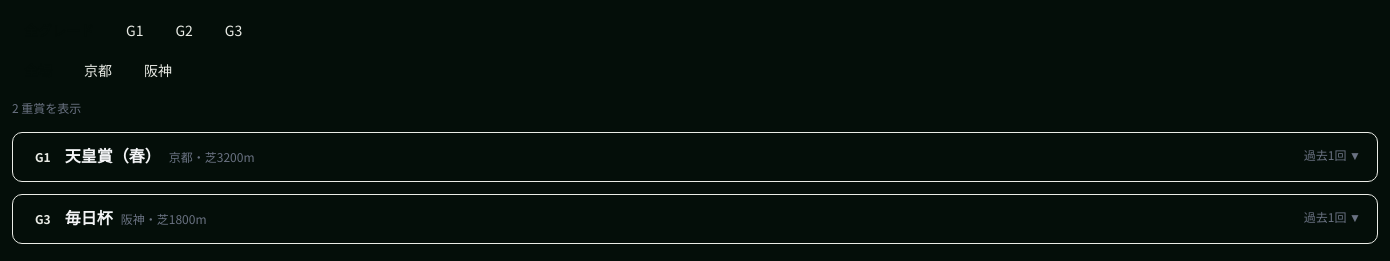
GradedClient › G1チップで絞り込むとG3レースが非表示になる
This screenshot has width=1390, height=261.
Click the button "G1".
click(135, 30)  # box [114,16,155,44]
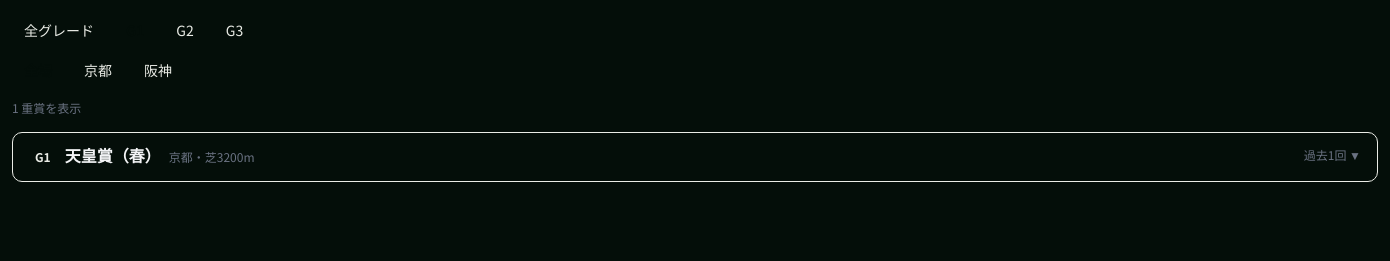
Check: the text "天皇賞（春）" is shown, box [65,145,161,169]
Check: the button "毎日杯" is gone
